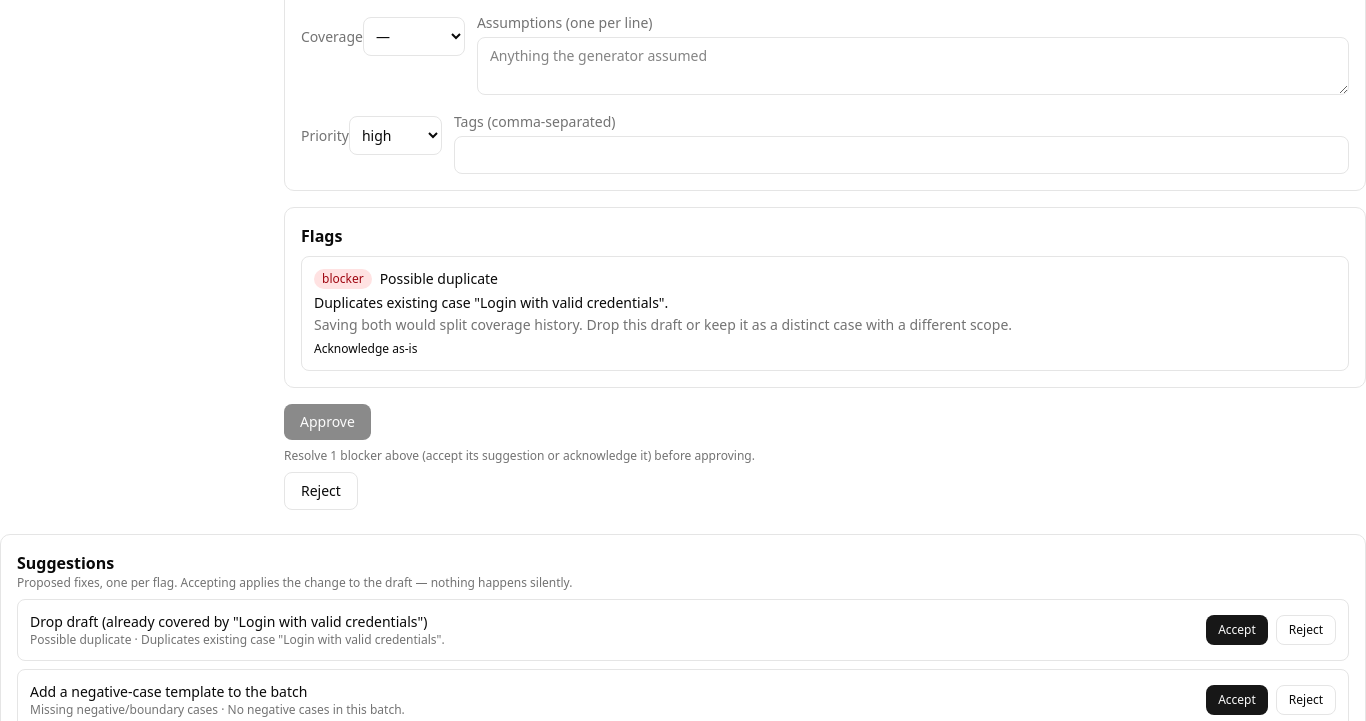
ReviewWorkspace › blocks approval on unresolved blockers until acknowledged
(page scrolled)
Expected: the text "Possible duplicate" is shown, [380,269,498,289]
Expected: the button "Approve" is disabled, [284,404,371,440]
Click the button "Acknowledge as-is": (366, 349) [314,341,417,357]
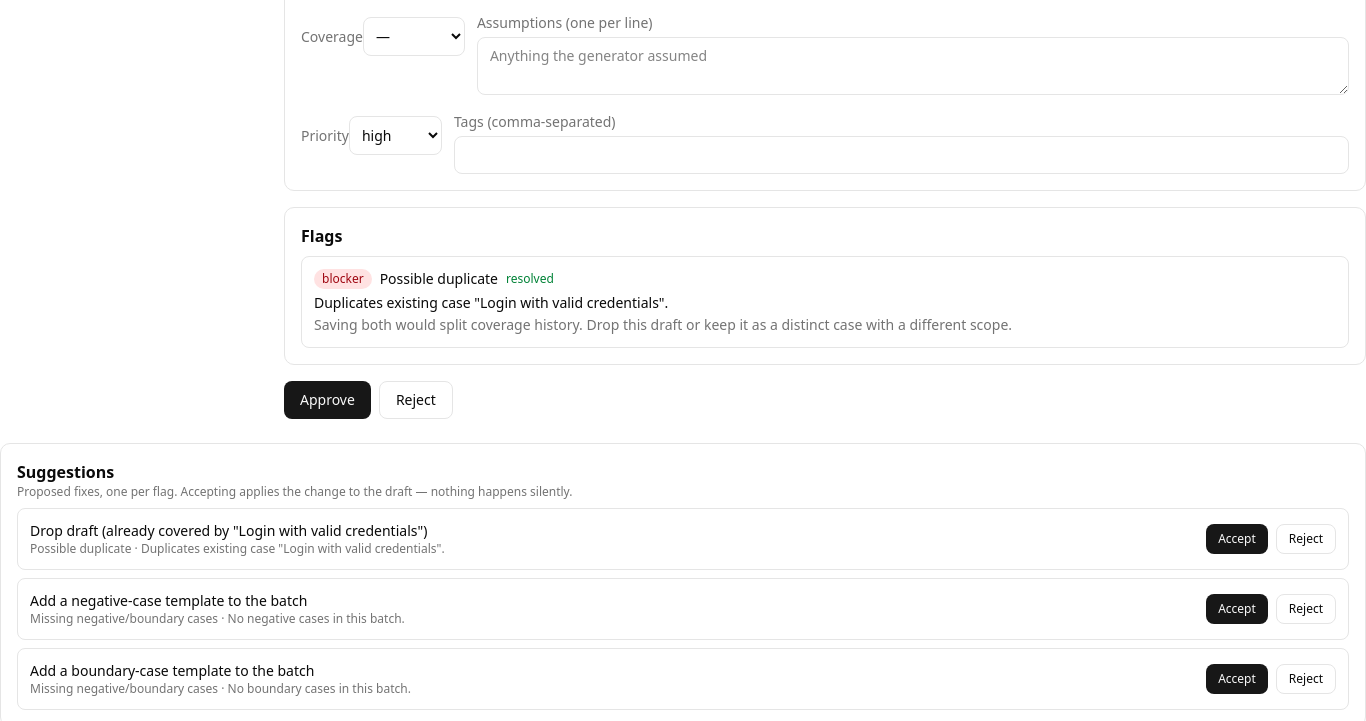
Expected: the button "Approve" is enabled
Click the button "Approve": (327, 400) [284,381,371,419]
(page scrolled)
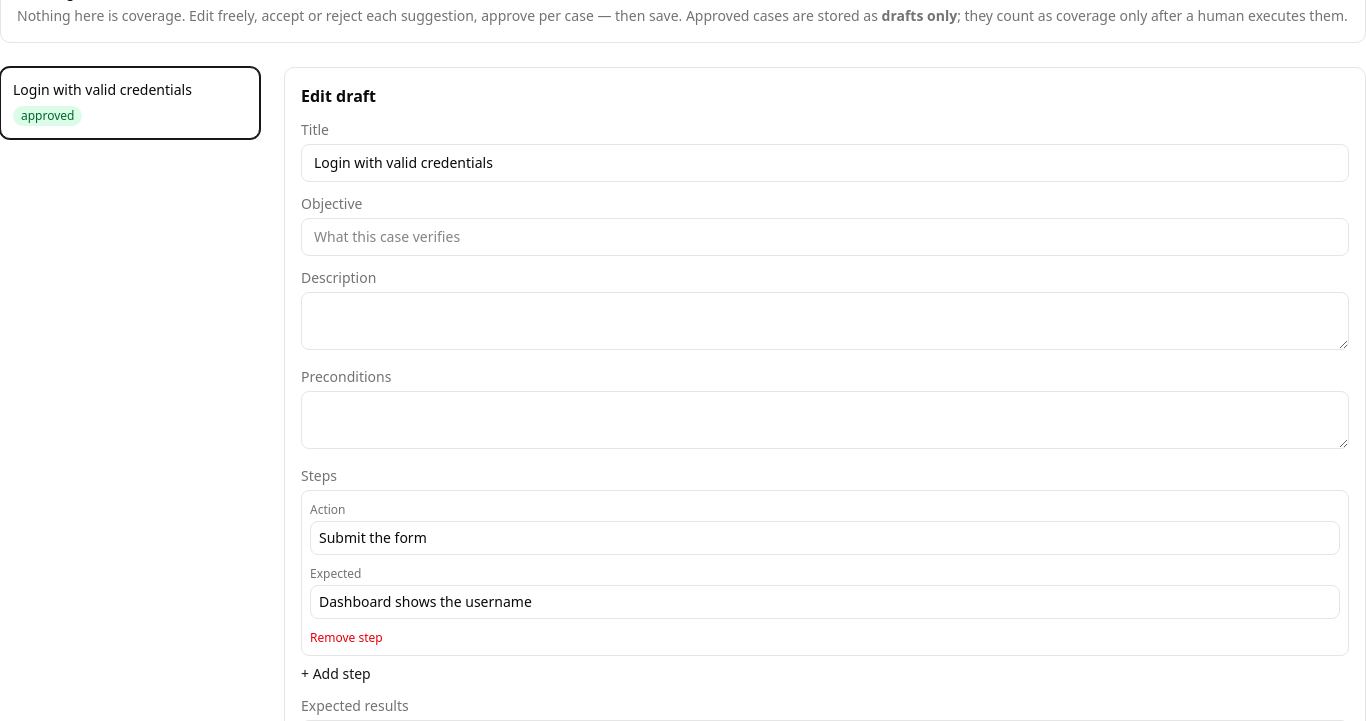
Expected: the text "approved" is shown, [13,106,82,126]
